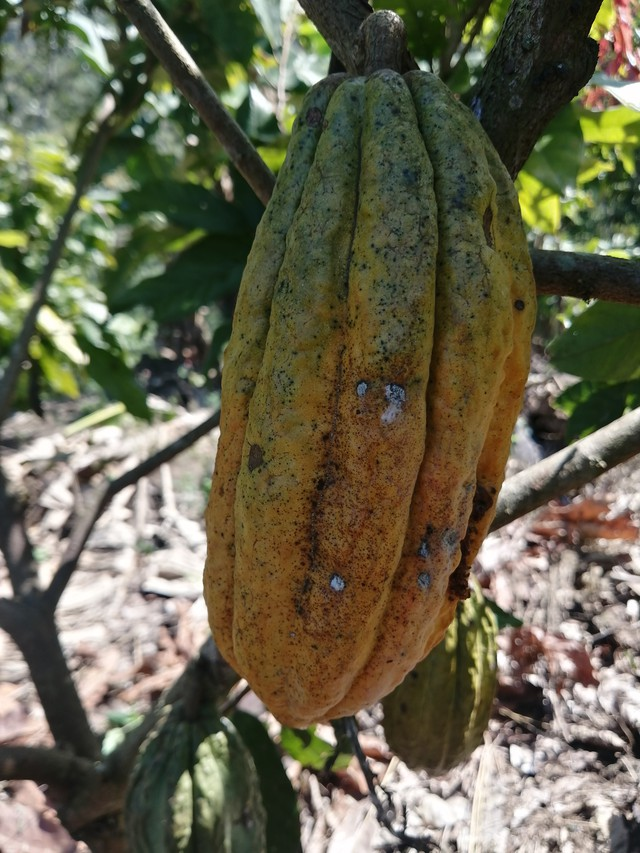carmenta foraseminis: (202, 58, 543, 739)
